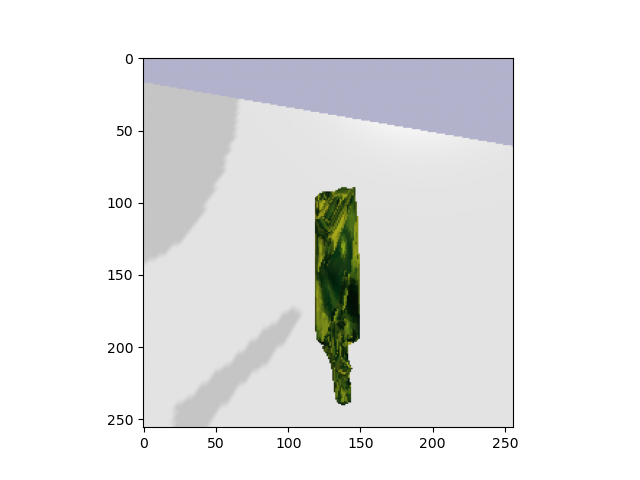v249b387_108: (304, 182, 378, 407)
